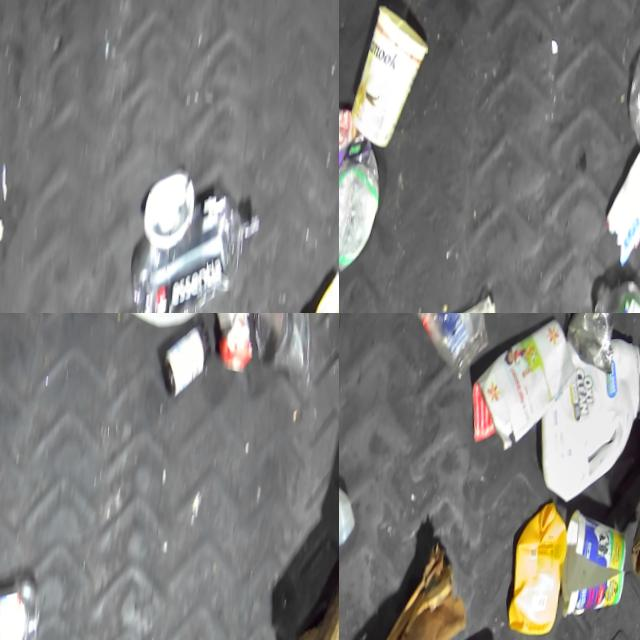can: (247, 313, 315, 386), (209, 313, 259, 379)
milk_jug: (539, 344, 640, 514), (82, 313, 233, 336)
non_white_jug: (339, 111, 389, 273)
plastic_bottle: (127, 179, 267, 313), (0, 578, 46, 640)
